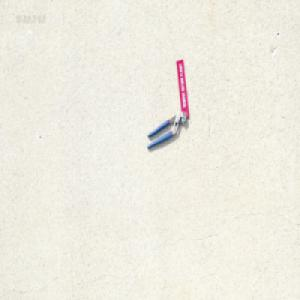Label: (176, 59, 189, 118)
Pliers: (146, 111, 187, 151)
